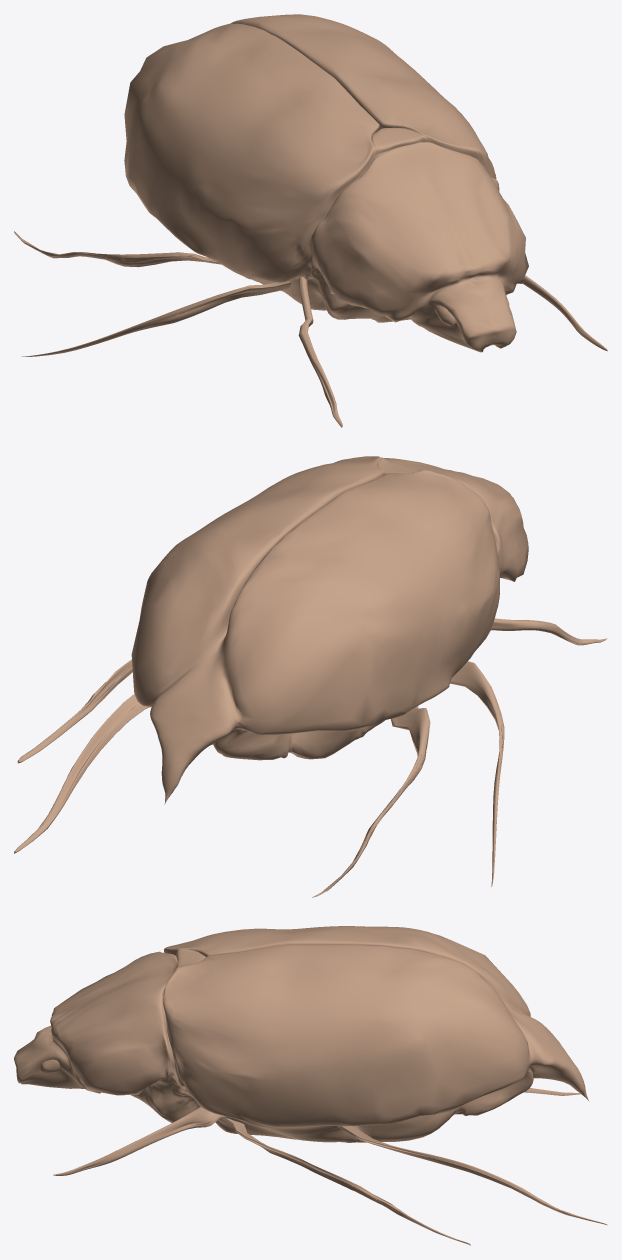
The picture shows the model from 3 angles, top to bottom: view 1: azimuth 30°, elevation 25°; view 2: azimuth 150°, elevation 25°; view 3: azimuth 270°, elevation 25°; orthographic projection. The views are drawn at different scales.
Visible parts, largest first — view 1: sphere_Copy; view 2: sphere_Copy; view 3: sphere_Copy.
Boxes of the visible parts, x1,y1,x2,y2 form: sphere_Copy: (14, 14, 607, 427); sphere_Copy: (14, 456, 607, 897); sphere_Copy: (14, 926, 607, 1245).
Bounding box in the file's own units: 235 × 140 × 313.
